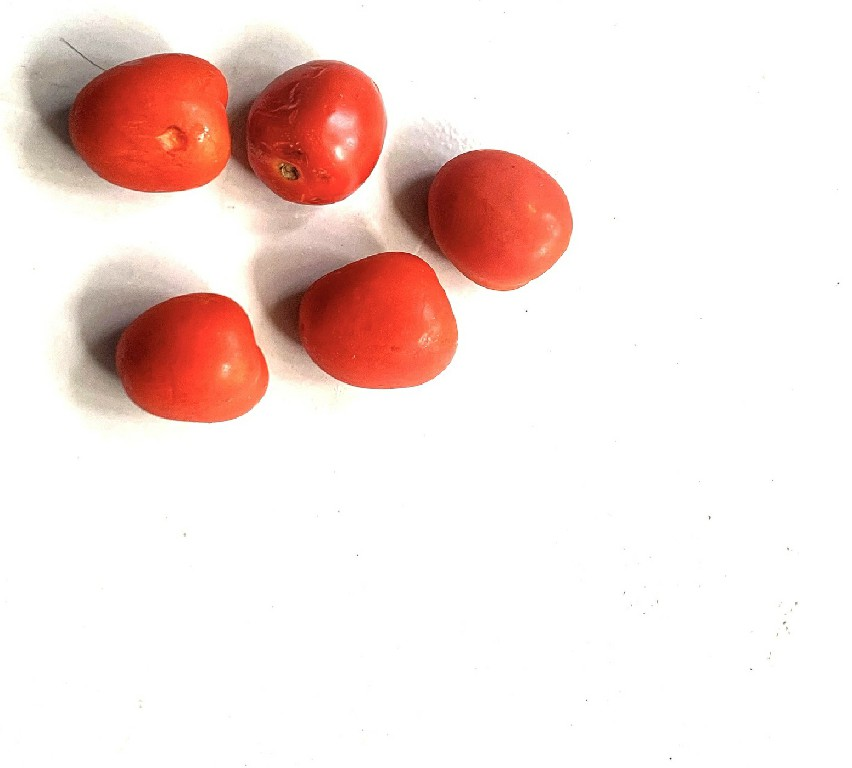NG: (66, 54, 241, 197), (247, 50, 389, 208)
OK: (294, 249, 457, 395), (426, 145, 578, 295), (111, 292, 270, 428)
